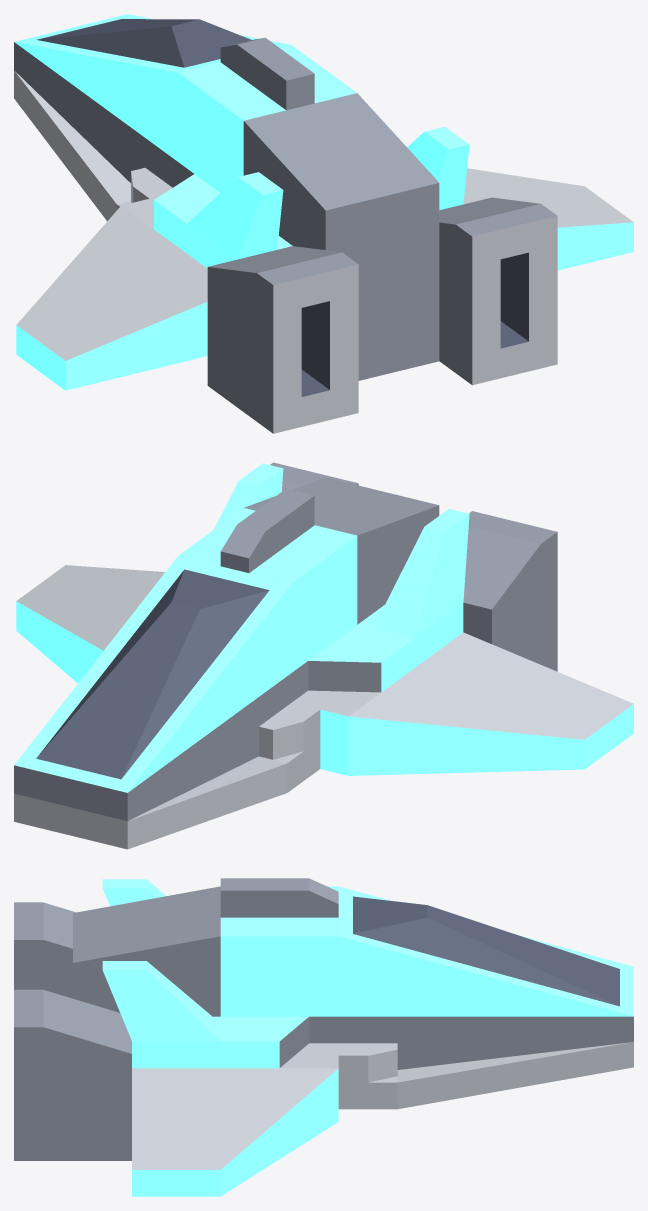
The model's file is craft_speederA.glb.
3 renders of one model, top to bottom at view 1: azimuth 30°, elevation 25°; view 2: azimuth 150°, elevation 25°; view 3: azimuth 270°, elevation 25°, orthographic. The views are drawn at different scales.
Parts seen in each view (by area): view 1: craft_speederA; view 2: craft_speederA; view 3: craft_speederA.
Part boxes in pixels (box(x1,y1,x2,y2)): craft_speederA: box(14, 14, 633, 433); craft_speederA: box(14, 462, 633, 849); craft_speederA: box(14, 878, 633, 1196).
Bounding box in the file's own units: 2 × 0.8 × 2.1.
